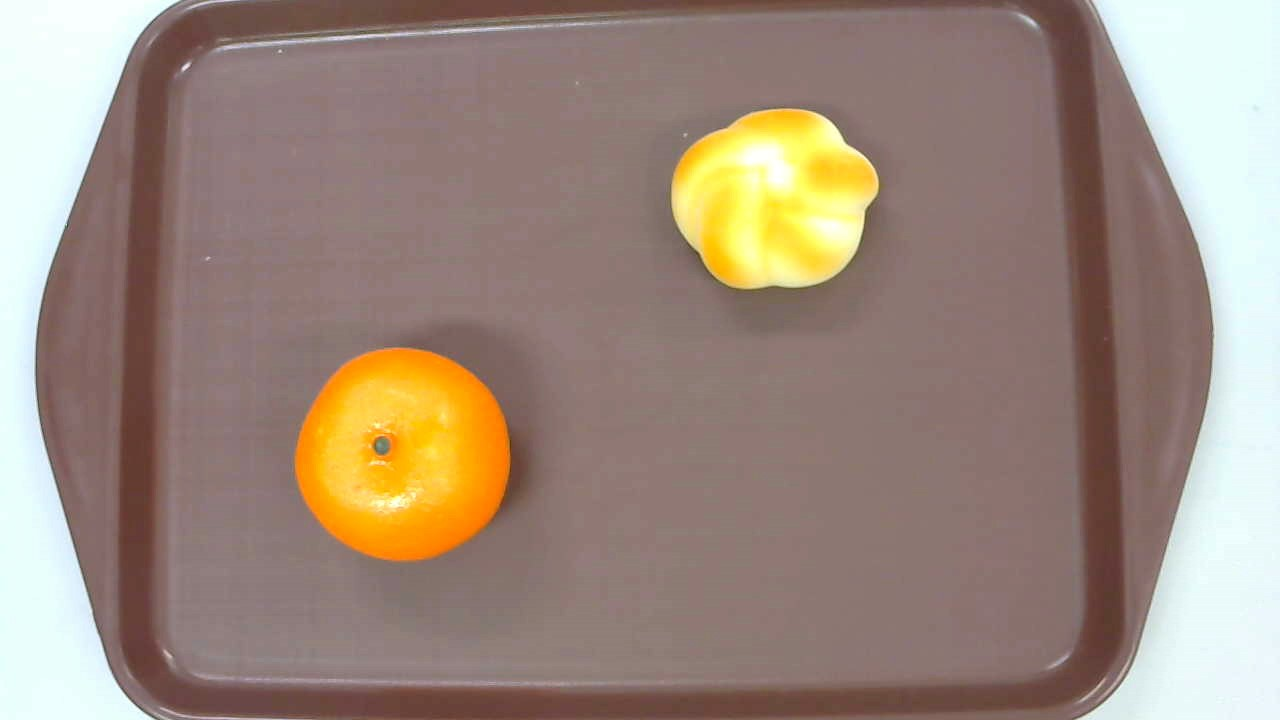orange: (293, 346, 510, 561)
twist bread: (671, 109, 878, 290)
